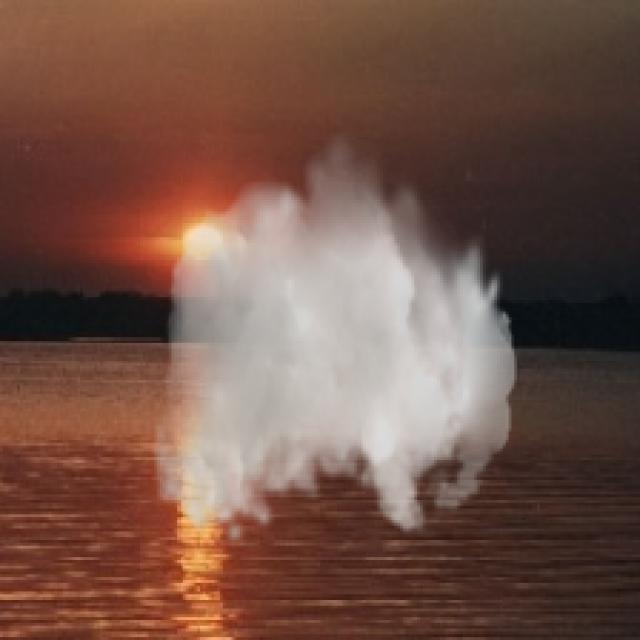Smoke: (152, 125, 517, 546)
